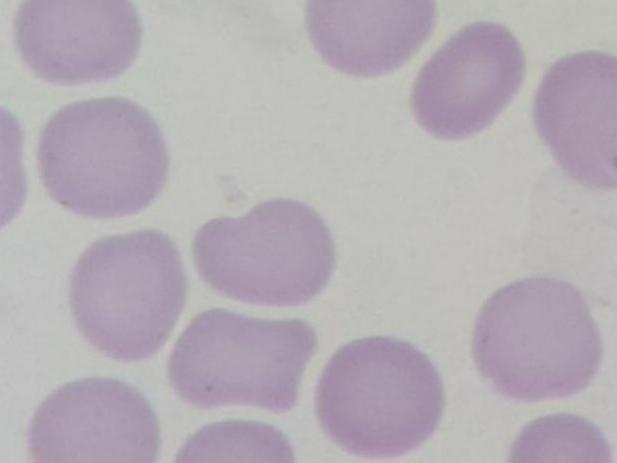Uninfected: (318, 335, 446, 463), (469, 277, 600, 402), (193, 198, 336, 311), (72, 227, 188, 363), (41, 98, 170, 219), (170, 308, 314, 411), (412, 18, 527, 141), (26, 377, 162, 463), (11, 0, 145, 83), (534, 53, 617, 186), (303, 0, 431, 78)
